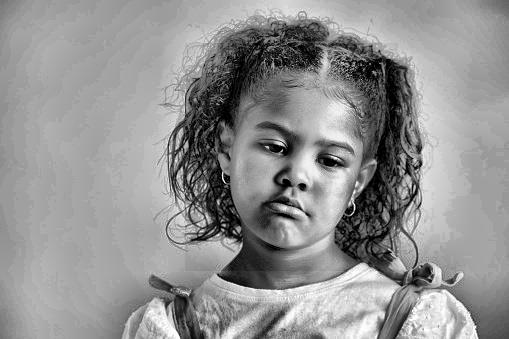sad: (186, 43, 399, 271)
